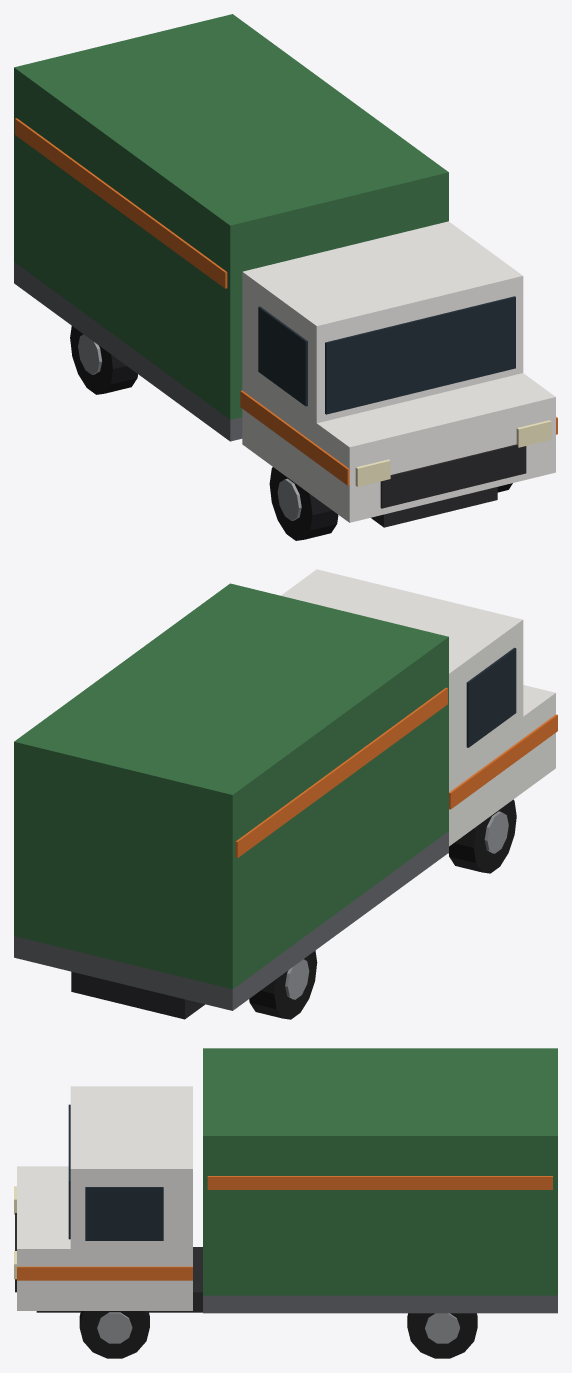
Rendered from gazel_green.glb.
3 renders of one model, top to bottom at view 1: azimuth 30°, elevation 25°; view 2: azimuth 150°, elevation 25°; view 3: azimuth 270°, elevation 25°, orthographic. The views are drawn at different scales.
Parts seen in each view (by area): view 1: gazel_green; view 2: gazel_green; view 3: gazel_green.
Part boxes in pixels (bbox=[...]): gazel_green: bbox=[14, 14, 557, 540]; gazel_green: bbox=[14, 569, 557, 1019]; gazel_green: bbox=[14, 1048, 557, 1358].
Bounding box in the file's own units: 2.16 × 2.54 × 5.56.
